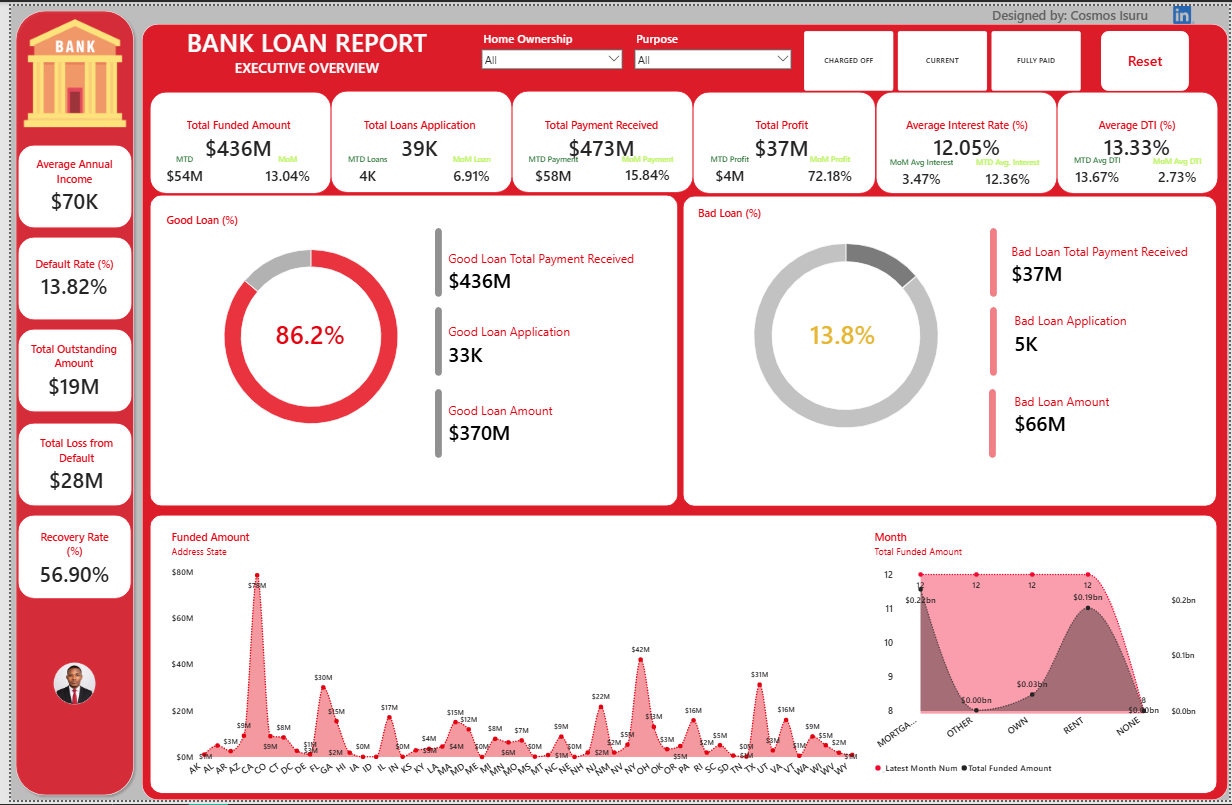

The dashboard page shown, as its layout file describes it:
{"tool":"powerbi","page":{"name":"Page 1","canvas":[2300,1500],"ordinal":0},"visuals":[{"type":"shape","box":[247.5,34,2051.6,1466],"z":0},{"type":"shape","box":[0,0,241,1500],"z":1000},{"type":"shape","box":[262,962,2016,526],"z":2000},{"type":"shape","box":[262.6,357.1,997,587.5],"z":3000},{"type":"shape","box":[1270,358,1008,586],"z":4000},{"type":"shape","box":[262,162,342,192],"z":5000},{"type":"shape","box":[13.2,262.6,215.4,156.8],"z":6000},{"type":"shape","box":[13.2,436.4,215.4,156.8],"z":7000},{"type":"shape","box":[13.2,610.2,215.4,156.8],"z":8000},{"type":"shape","box":[13.2,787.8,215.4,156.8],"z":9000},{"type":"textbox","box":[262.6,34,593.2,126.6],"z":10000},{"type":"advancedSlicerVisual","fields":{"Values":["Financial_loan-Task 4.Loan_Status"]},"box":[1498.1,47.2,525.2,113.4],"z":11000},{"type":"actionButton","title":"Reset","box":[2059.2,47.2,166.2,113.4],"z":12000},{"type":"cardVisual","fields":{"Data":["Financial_loan-Task 4.Total Funded Amount"]},"box":[272,162,316,178],"z":13000},{"type":"cardVisual","fields":{"Data":["Financial_loan-Task 4.MTD"]},"box":[272,276,112,64],"z":14000},{"type":"cardVisual","fields":{"Data":["Financial_loan-Task 4.MoM Total Loan Amount (%)"]},"box":[466,276,112,64],"z":15000},{"type":"shape","box":[604,160,342,192],"z":16000},{"type":"shape","box":[946,160,342,192],"z":17000},{"type":"shape","box":[1288,162,345,192],"z":18000},{"type":"shape","box":[1634,162,342,192],"z":19000},{"type":"shape","box":[1976,162,304,192],"z":20000},{"type":"cardVisual","fields":{"Data":["Financial_loan-Task 4.Total Loans Application"]},"box":[618,162,308,178],"z":21000},{"type":"cardVisual","fields":{"Data":["Financial_loan-Task 4.MoM Number of Loans Issued (%)"]},"box":[814,276,112,64],"z":22000},{"type":"cardVisual","fields":{"Data":["Financial_loan-Task 4.MTD Number of Loans Issued"]},"box":[618,276,112,64],"z":23000},{"type":"cardVisual","fields":{"Data":["Financial_loan-Task 4.Total Payment Received"]},"box":[962,162,308,178],"z":24000},{"type":"cardVisual","fields":{"Data":["Financial_loan-Task 4.MoM Payment )"]},"box":[1132,274,142,66],"z":25000},{"type":"cardVisual","fields":{"Data":["Financial_loan-Task 4.MTD Payment"]},"box":[962,276,126,64],"z":26000},{"type":"cardVisual","fields":{"Data":["Financial_loan-Task 4.Average Interest Rate (%)"]},"box":[1656,160,298,180],"z":27000},{"type":"cardVisual","fields":{"Data":["Financial_loan-Task 4.Total Profit"]},"box":[1296,162,320,178],"z":28000},{"type":"cardVisual","fields":{"Data":["Financial_loan-Task 4.Average DTI (%)"]},"box":[1992,160,272,180],"z":29000},{"type":"cardVisual","fields":{"Data":["Financial_loan-Task 4.Average Annual Income"]},"box":[20,276,198,126],"z":30000},{"type":"cardVisual","fields":{"Data":["Financial_loan-Task 4.MTD Profit"]},"box":[1296,276,124,64],"z":31000},{"type":"cardVisual","fields":{"Data":["Financial_loan-Task 4.MoM Profit"]},"box":[1480,276,136,64],"z":32000},{"type":"cardVisual","fields":{"Data":["Financial_loan-Task 4.MoM Avg Interest Rate"]},"box":[1634,282,172,64],"z":33000},{"type":"cardVisual","fields":{"Data":["Financial_loan-Task 4.MTD Avg. Interest Rate"]},"box":[1806,282,154,64],"z":34000},{"type":"cardVisual","fields":{"Data":["Financial_loan-Task 4.MTD Avg DTI"]},"box":[1992,282,122,58],"z":35000},{"type":"cardVisual","fields":{"Data":["Financial_loan-Task 4.MoM Avg DTI"]},"box":[2142,276,122,70],"z":36000},{"type":"cardVisual","fields":{"Data":["Financial_loan-Task 4.Default Rate (%)"]},"box":[22,446,194,136],"z":37000},{"type":"cardVisual","fields":{"Data":["Financial_loan-Task 4.Total Outstanding Amount"]},"box":[20,618,196,140],"z":38000},{"type":"cardVisual","fields":{"Data":["Financial_loan-Task 4.Total Loss from Default"]},"box":[20,802,206,126],"z":39000},{"type":"shape","box":[14,962,214,158],"z":41000},{"type":"cardVisual","fields":{"Data":["Financial_loan-Task 4.Recovery Rate (%)"]},"box":[32,974,176,136],"z":42000},{"type":"image","box":[32.1,1203.4,175.7,153],"z":43000},{"type":"image","box":[2154,0,124,34],"z":44000},{"type":"textbox","box":[1848,0,306,34],"z":45000},{"type":"image","box":[18,18,204,216],"z":46000},{"type":"lineChart","title":"Funded Amount","fields":{"Category":["Financial_loan-Task 4.Address_State"],"Y":["Financial_loan-Task 4.Total Funded Amount"]},"box":[288,974,1328,514],"z":47000},{"type":"lineChart","title":"Month ","fields":{"Category":["Financial_loan-Task 4.Home_Ownership"],"Y":["Financial_loan-Task 4._Latest Month Num"],"Y2":["Financial_loan-Task 4.Total Funded Amount"]},"box":[1616,974,648,496],"z":48000},{"type":"textbox","box":[444,585.6,243.7,66.1],"z":49000},{"type":"donutChart","title":"Good Loan (%) ","fields":{"Y":["Financial_loan-Task 4.Good Loan (%)","Financial_loan-Task 4.Good Loan Reminder"]},"box":[277.7,375.9,578.1,470.4],"z":50000},{"type":"textbox","box":[1456.5,585.6,230.5,77.5],"z":51000},{"type":"donutChart","title":"Bad Loan (%) ","fields":{"Y":["Financial_loan-Task 4.Bad Loan (%)","Financial_loan-Task 4.Bad Loan Remaind"]},"box":[1297.9,375.9,559.2,464.7],"z":52000},{"type":"slicer","fields":{"Values":["Financial_loan-Task 4.Purpose"]},"box":[1173.2,47.2,306,113.4],"z":53000},{"type":"cardVisual","fields":{"Data":["Financial_loan-Task 4.Good Loan Total Payment Received"]},"box":[814.2,432.6,425.1,137.9],"z":54000},{"type":"cardVisual","fields":{"Data":["Financial_loan-Task 4.Good Loan Count"]},"box":[814.2,581.9,425.1,117.1],"z":55000},{"type":"cardVisual","fields":{"Data":["Financial_loan-Task 4.Good Loan Amount"]},"box":[814.2,734.9,409.9,107.7],"z":56000},{"type":"cardVisual","fields":{"Data":["Financial_loan-Task 4.Bad Loan Total Payment Received"]},"box":[1877.8,432.6,360.8,111.5],"z":58000},{"type":"cardVisual","fields":{"Data":["Financial_loan-Task 4.Bad Loan Count"]},"box":[1883.5,564.9,360.8,109.6],"z":58001},{"type":"cardVisual","fields":{"Data":["Financial_loan-Task 4.Bad Loan Amount"]},"box":[1883.5,723.6,360.8,96.3],"z":58002},{"type":"slicer","fields":{"Values":["Financial_loan-Task 4.Home_Ownership"]},"box":[884.1,47.2,275.8,113.4],"z":58003},{"type":"shape","box":[801,419.4,13.2,130.4],"z":58004},{"type":"shape","box":[801,568.6,13.2,130.4],"z":58005},{"type":"shape","box":[1847.6,723.6,13.2,130.4],"z":58006},{"type":"shape","box":[1849.5,419.4,13.2,130.4],"z":58007},{"type":"shape","box":[1849.5,568.6,13.2,130.4],"z":58008},{"type":"shape","box":[801,723.6,13.2,130.4],"z":58009}]}

Visuals, with their boxes in screenshot pixels (x1, y1, x2, y2), scaled from the page's 2300x1500 canvas onto the 1232x805 screenshot:
shape: 133/18/1231/804
shape: 0/0/129/804
shape: 140/516/1220/799
shape: 141/192/675/507
shape: 680/192/1220/507
shape: 140/87/324/190
shape: 7/141/122/225
shape: 7/234/122/318
shape: 7/327/122/412
shape: 7/423/122/507
textbox: 141/18/458/86
advancedSlicerVisual - Financial_loan-Task 4.Loan_Status: 802/25/1084/86
"Reset" actionButton: 1103/25/1192/86
cardVisual - Financial_loan-Task 4.Total Funded Amount: 146/87/315/182
cardVisual - Financial_loan-Task 4.MTD: 146/148/206/182
cardVisual - Financial_loan-Task 4.MoM Total Loan Amount (%): 250/148/310/182
shape: 324/86/507/189
shape: 507/86/690/189
shape: 690/87/875/190
shape: 875/87/1058/190
shape: 1058/87/1221/190
cardVisual - Financial_loan-Task 4.Total Loans Application: 331/87/496/182
cardVisual - Financial_loan-Task 4.MoM Number of Loans Issued (%): 436/148/496/182
cardVisual - Financial_loan-Task 4.MTD Number of Loans Issued: 331/148/391/182
cardVisual - Financial_loan-Task 4.Total Payment Received: 515/87/680/182
cardVisual - Financial_loan-Task 4.MoM Payment ): 606/147/682/182
cardVisual - Financial_loan-Task 4.MTD Payment: 515/148/583/182
cardVisual - Financial_loan-Task 4.Average Interest Rate (%): 887/86/1047/182
cardVisual - Financial_loan-Task 4.Total Profit: 694/87/866/182
cardVisual - Financial_loan-Task 4.Average DTI (%): 1067/86/1213/182
cardVisual - Financial_loan-Task 4.Average Annual Income: 11/148/117/216
cardVisual - Financial_loan-Task 4.MTD Profit: 694/148/761/182
cardVisual - Financial_loan-Task 4.MoM Profit: 793/148/866/182
cardVisual - Financial_loan-Task 4.MoM Avg Interest Rate: 875/151/967/186
cardVisual - Financial_loan-Task 4.MTD Avg. Interest Rate: 967/151/1050/186
cardVisual - Financial_loan-Task 4.MTD Avg DTI: 1067/151/1132/182
cardVisual - Financial_loan-Task 4.MoM Avg DTI: 1147/148/1213/186
cardVisual - Financial_loan-Task 4.Default Rate (%): 12/239/116/312
cardVisual - Financial_loan-Task 4.Total Outstanding Amount: 11/332/116/407
cardVisual - Financial_loan-Task 4.Total Loss from Default: 11/430/121/498
shape: 7/516/122/601
cardVisual - Financial_loan-Task 4.Recovery Rate (%): 17/523/111/596
image: 17/646/111/728
image: 1154/0/1220/18
textbox: 990/0/1154/18
image: 10/10/119/126
"Funded Amount" lineChart: 154/523/866/799
"Month " lineChart: 866/523/1213/789
textbox: 238/314/368/350
"Good Loan (%) " donutChart: 149/202/458/454
textbox: 780/314/904/356
"Bad Loan (%) " donutChart: 695/202/995/451
slicer - Financial_loan-Task 4.Purpose: 628/25/792/86
cardVisual - Financial_loan-Task 4.Good Loan Total Payment Received: 436/232/664/306
cardVisual - Financial_loan-Task 4.Good Loan Count: 436/312/664/375
cardVisual - Financial_loan-Task 4.Good Loan Amount: 436/394/656/452
cardVisual - Financial_loan-Task 4.Bad Loan Total Payment Received: 1006/232/1199/292
cardVisual - Financial_loan-Task 4.Bad Loan Count: 1009/303/1202/362
cardVisual - Financial_loan-Task 4.Bad Loan Amount: 1009/388/1202/440
slicer - Financial_loan-Task 4.Home_Ownership: 474/25/621/86
shape: 429/225/436/295
shape: 429/305/436/375
shape: 990/388/997/458
shape: 991/225/998/295
shape: 991/305/998/375
shape: 429/388/436/458
